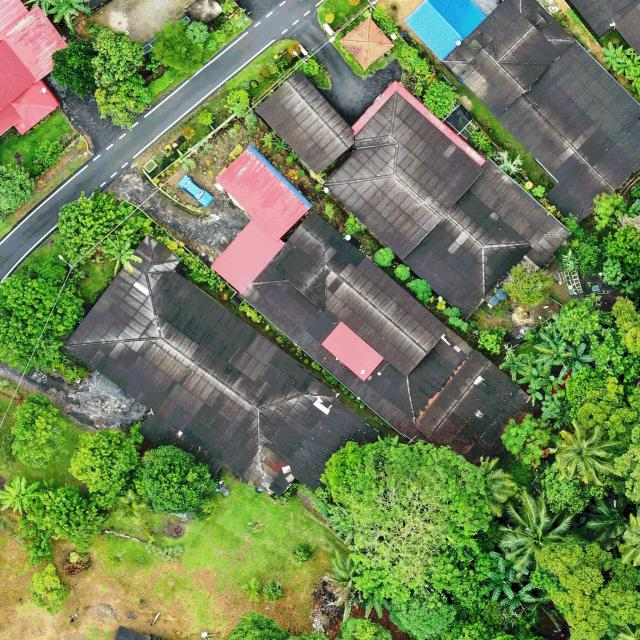Tree: (318, 436, 494, 602), (529, 532, 640, 640), (0, 254, 87, 376), (54, 186, 153, 277), (497, 491, 576, 569), (133, 443, 217, 514), (69, 428, 141, 510), (26, 481, 101, 551), (550, 417, 624, 485), (9, 392, 72, 469), (564, 362, 624, 423), (149, 18, 210, 77), (94, 72, 154, 130), (222, 609, 334, 640), (88, 24, 145, 84), (49, 39, 97, 98), (0, 148, 36, 216), (502, 263, 557, 307), (29, 562, 73, 616), (587, 496, 630, 544), (0, 472, 45, 516), (531, 325, 571, 372), (556, 342, 597, 382), (48, 0, 91, 36), (334, 616, 396, 640), (516, 361, 548, 407), (422, 79, 459, 118), (107, 237, 143, 277), (485, 556, 515, 602), (499, 580, 538, 614), (476, 327, 509, 356), (617, 53, 640, 94), (499, 350, 529, 381), (539, 368, 566, 401), (222, 88, 250, 118), (601, 41, 625, 71), (406, 278, 432, 305), (25, 0, 62, 17), (342, 213, 366, 236), (373, 245, 395, 268), (392, 262, 411, 282)
